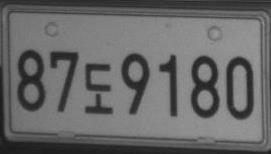0: (225, 55, 254, 121)
1: (157, 53, 187, 117)
7: (49, 51, 79, 112)
8: (190, 54, 220, 118), (16, 48, 46, 111)
9: (120, 52, 150, 115)
도: (84, 62, 113, 115)
